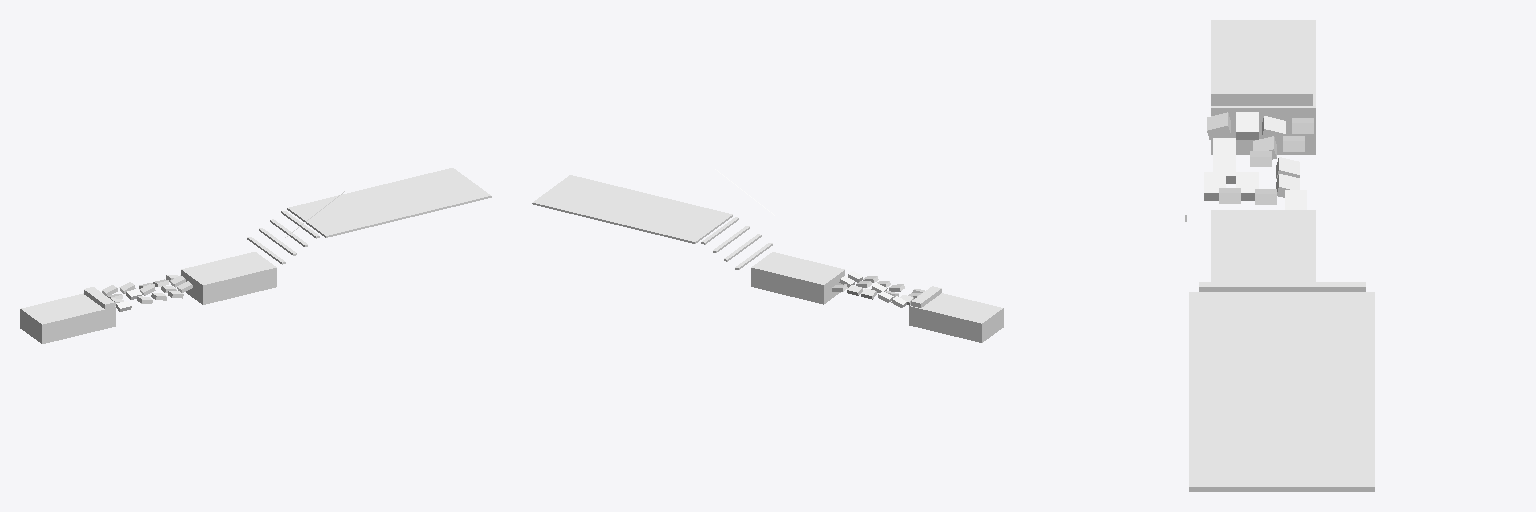
The robot description file, URDF, robot "race_1":
<robot name="race_1">
  <link name="base_link">
    <visual>
      <origin xyz="0 0 0" rpy="0 0 0" />
      <geometry>
        <mesh filename="package://hpp-rbprm-corba/meshes/race_1.stl"/>
      </geometry>
      <material name="white">
        <color rgba="1 1 1 1"/>
      </material>
    </visual>
    <collision>
      <origin xyz="0 0 0" rpy="0 0 0" />
      <geometry>
        <mesh filename="package://hpp-rbprm-corba/meshes/race_1.stl"/>
      </geometry>
    </collision>
  </link>
</robot>

--- What the picture shows (computed from the rendered views, not written in the file) ---
3 views of the same robot in one strip: view 1: azimuth 30°, elevation 25°; view 2: azimuth 150°, elevation 25°; view 3: azimuth 270°, elevation 25° (orthographic).
Robot: race_1 — 1 links, 0 joints (none); root link base_link; default pose: all joints at 0.
Visible links, largest first — view 1: base_link; view 2: base_link; view 3: base_link.
Link boxes in pixels (x1,y1,x2,y2): base_link: (20, 168, 491, 343); base_link: (532, 169, 1003, 342); base_link: (1185, 20, 1374, 491).
Bounding box of the posed robot: 11.78 × 1.81 × 2.14 m (x, y, z).
Meshes: 1 distinct files referenced, 1 mesh visuals loaded (1 binary STL).